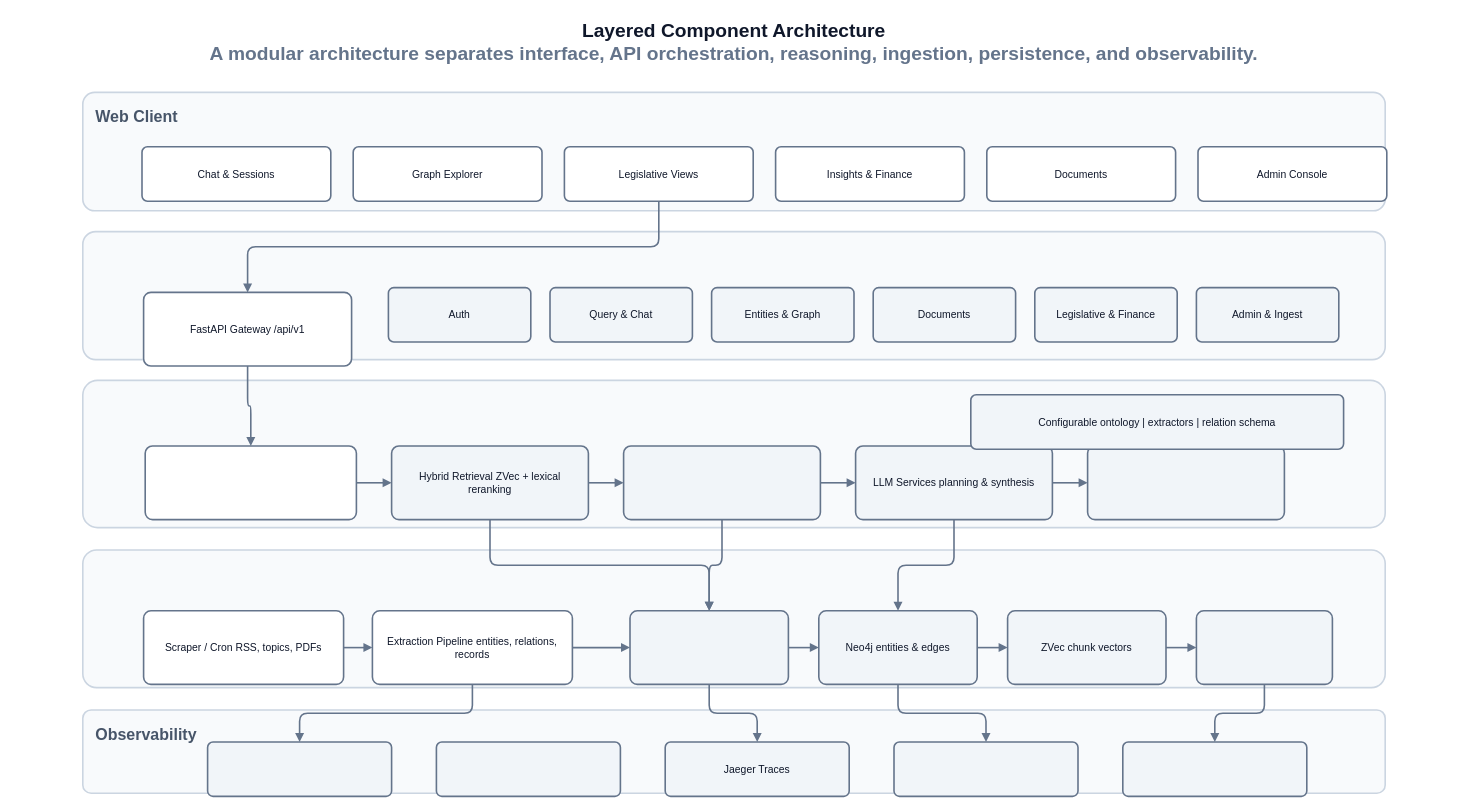
This 1467x810 diagram has some shape labels left out. Each missing label, with the box of its shape:
Admin Health Checks: (1122, 741, 1307, 797)
API Boundary: (82, 230, 1386, 360)
Exporters: (893, 741, 1078, 797)
Grafana Dashboards: (435, 741, 621, 797)
Graph Expansion Neo4j traversal: (622, 445, 821, 520)
Ingestion and Persistence: (82, 549, 1386, 688)
MongoDB documents & records: (629, 610, 789, 685)
Prometheus Metrics: (206, 741, 392, 797)
Reasoning Core: (82, 379, 1386, 528)
Reasoning Engine RAG / CoT / Reflexive: (144, 445, 357, 520)
Redis cache: (1195, 610, 1333, 685)
Web Search fresh external context: (1086, 445, 1285, 520)
